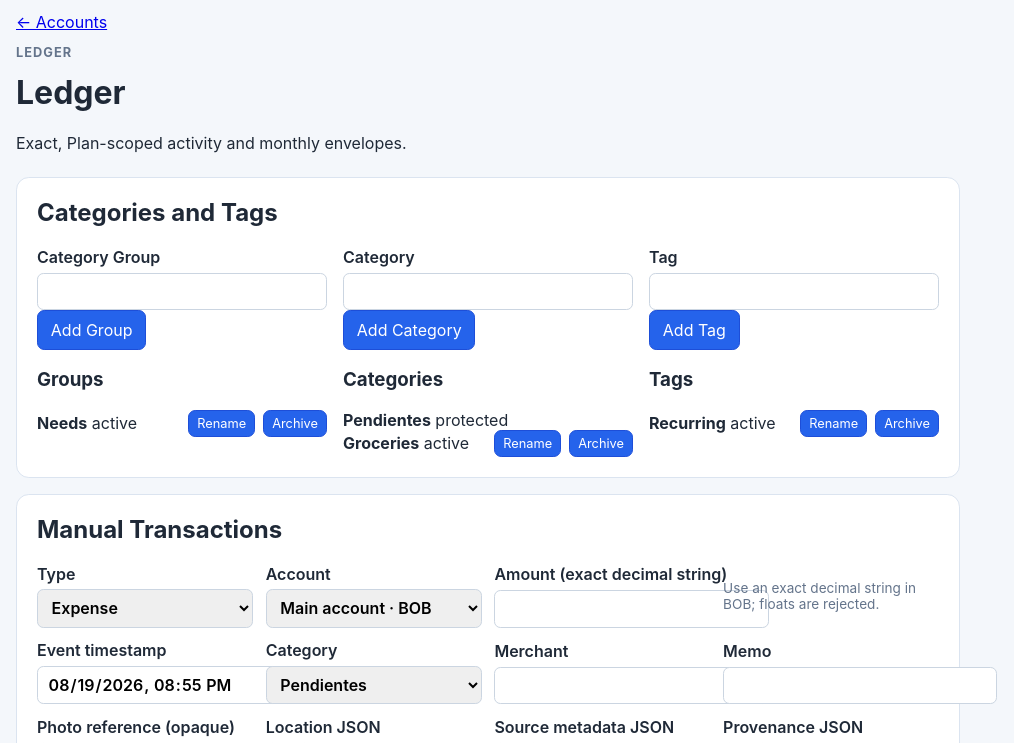
Scenario: minimal authoritative client flows › protects Pendientes and creates and archives taxonomy resources
Expected: the heading "Ledger" is shown, [16,73,126,112]
Type "Optional" into the field labelled "Category Group". click: (182, 291)
box: [37,272,327,310]
Click the button "Add Group". click: (92, 330)
box: [37,310,146,350]
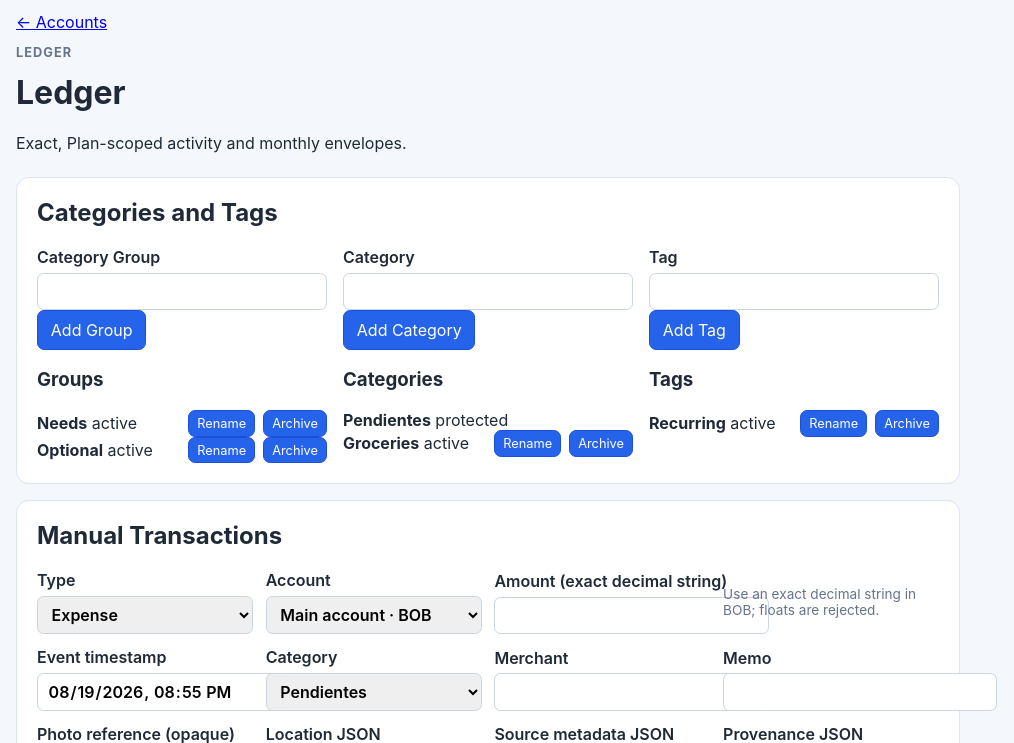
Expected: the text "Optional" is shown, [37,440,103,460]
Type "Dining" into the field labelled "Category". click: (488, 291)
box: [343,272,633,310]
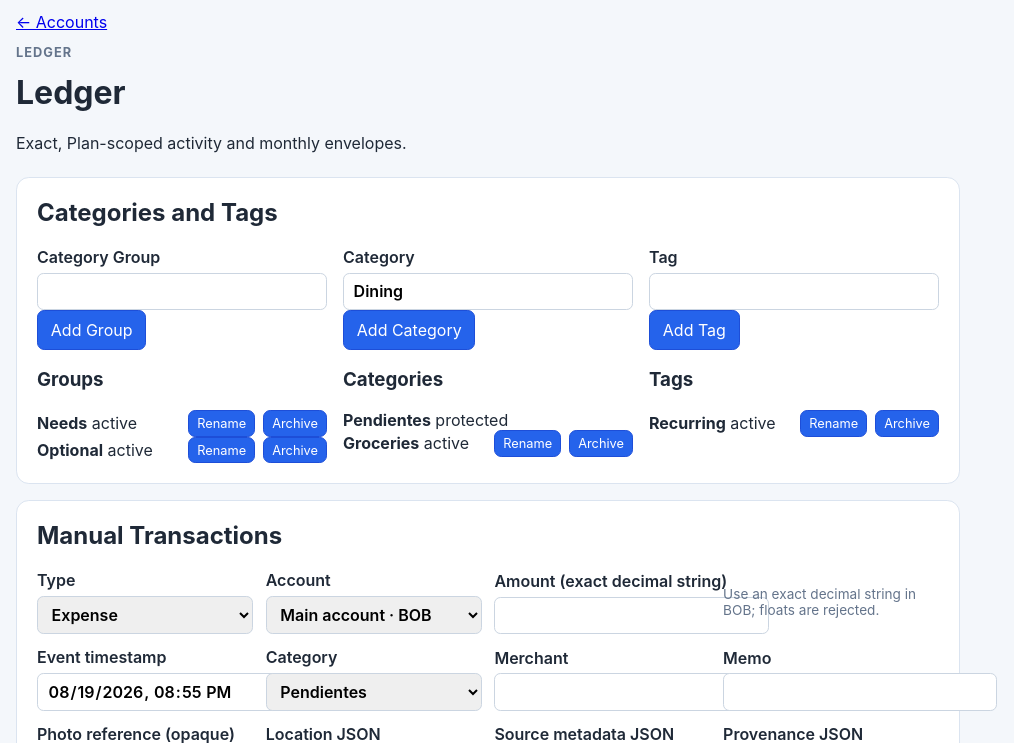
Click the button "Add Category". click: (409, 330)
box: [343,310,476,350]
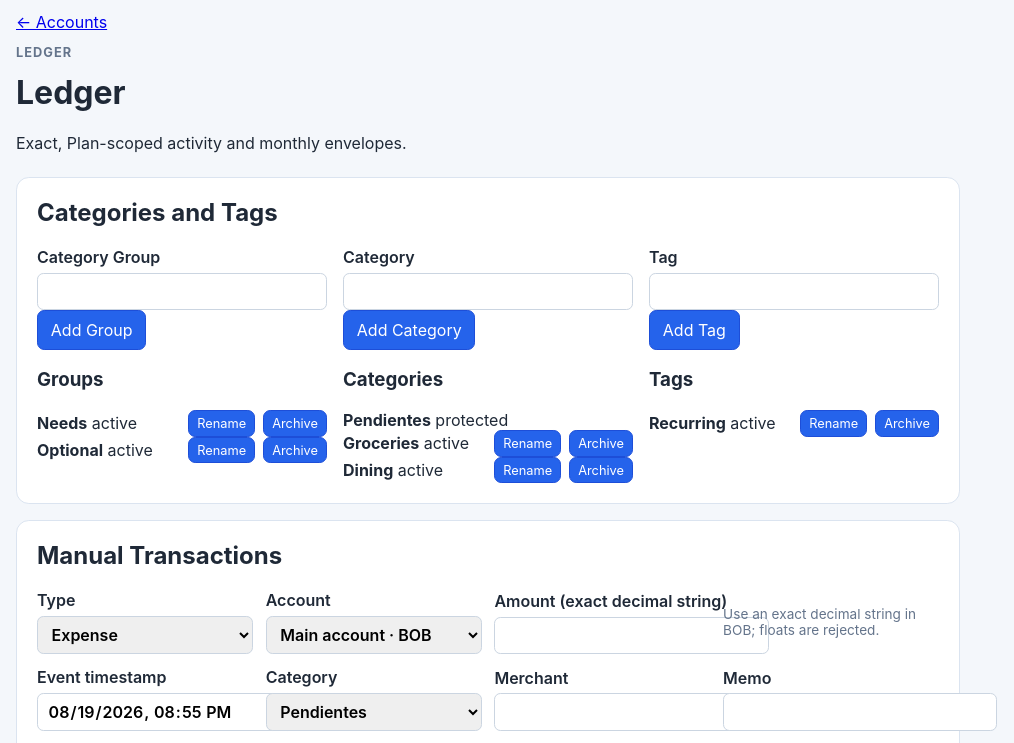
Expected: the text "Dining" is shown, [343,460,393,480]
Type "Travel" into the field labelled "Tag". click: (794, 291)
box: [649,272,939,310]
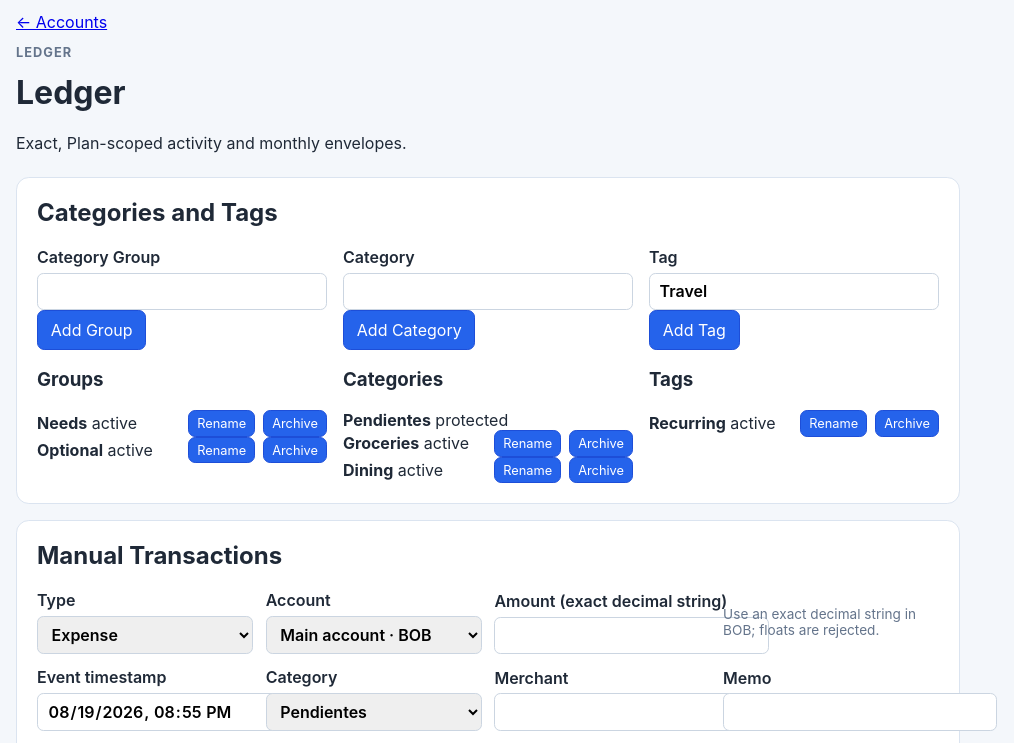
Click the button "Add Tag". click: (694, 330)
box: [649,310,740,350]
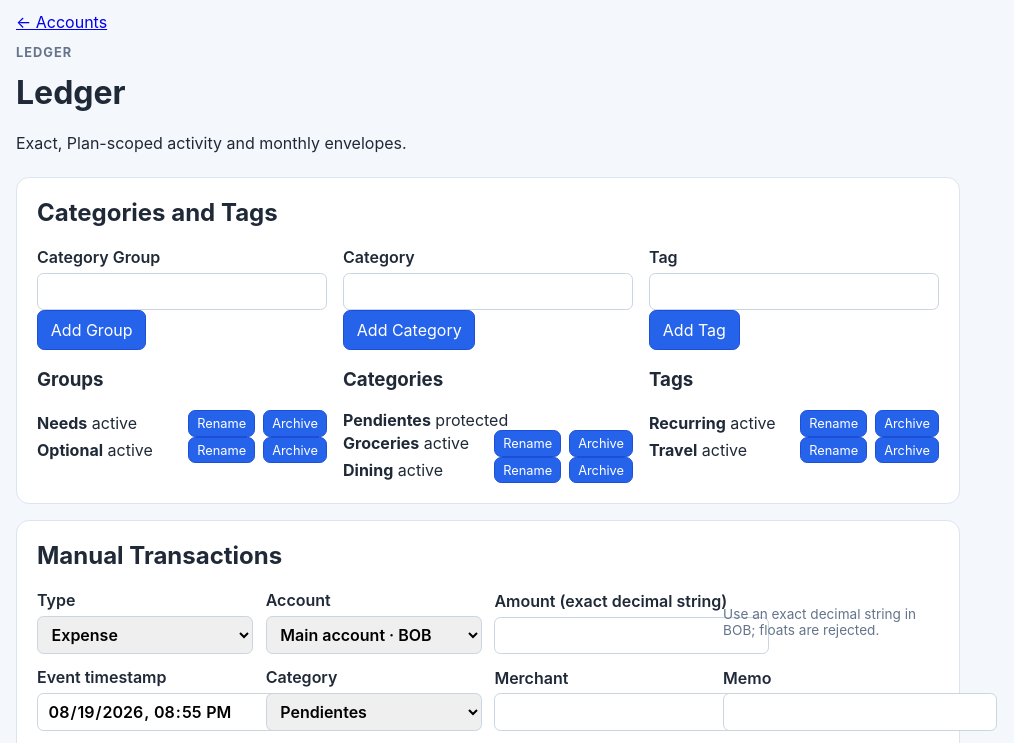
Expected: the text "Travel" is shown, [649,440,697,460]
Click the 4th button "Archive". click: (601, 444)
box: [569,430,633,457]
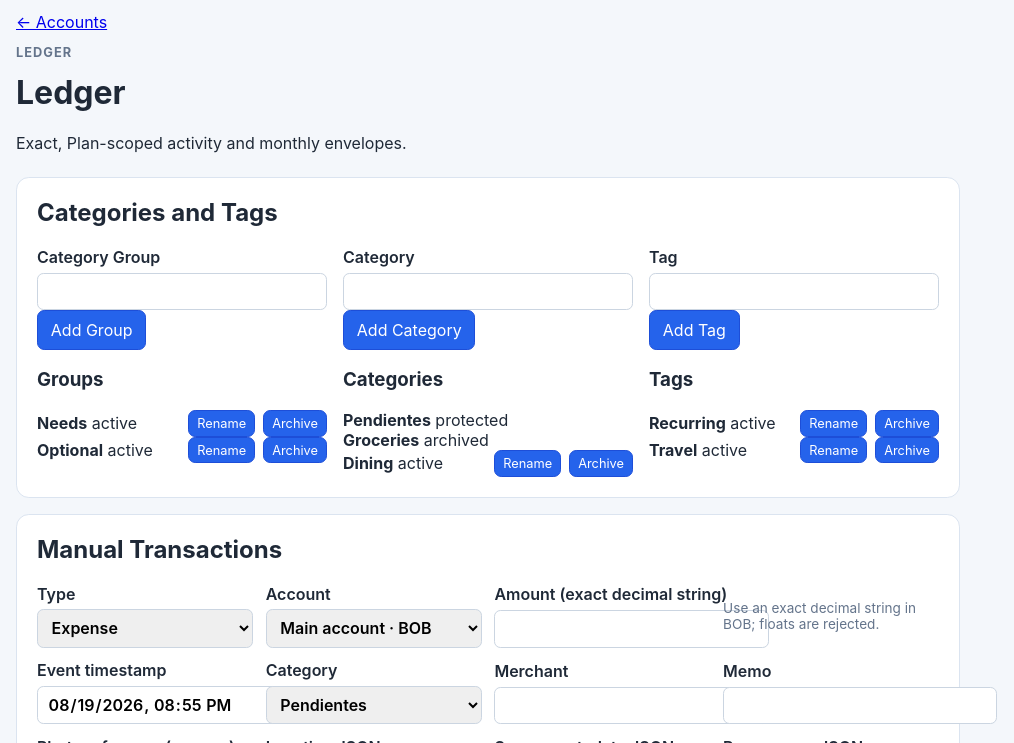
Expected: the text "archived" is shown, [424,430,489,450]
